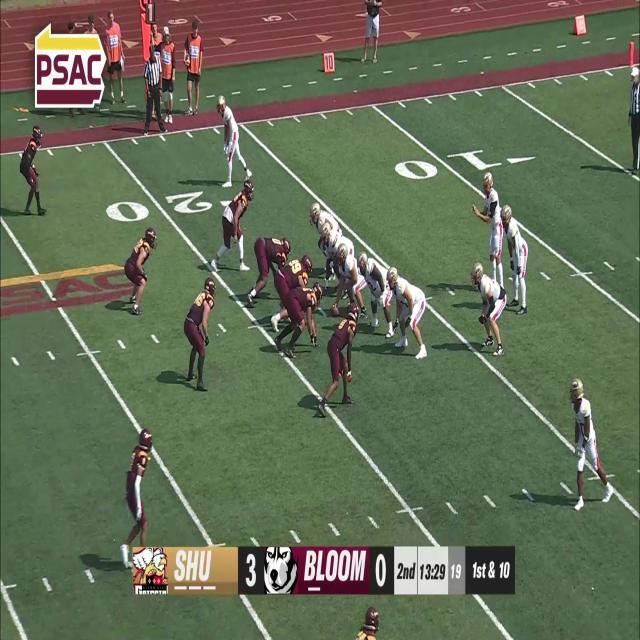football: (330, 304, 340, 316)
